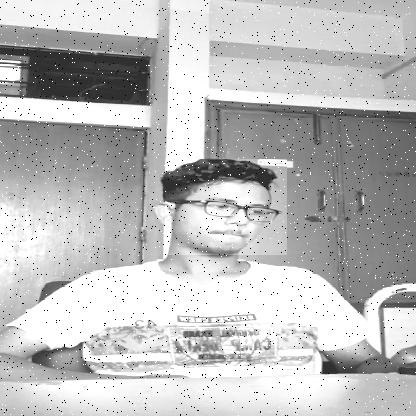Distracted: (165, 160, 287, 256)
